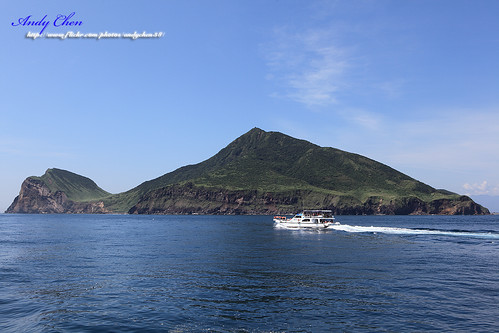turtleIslandLeft: (3, 127, 494, 217)
